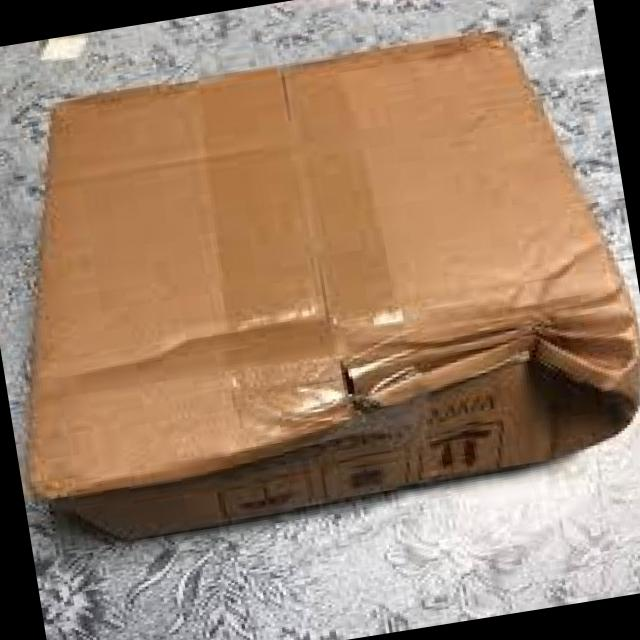box: (27, 28, 634, 540)
crushed: (375, 298, 633, 468), (29, 315, 329, 386)
